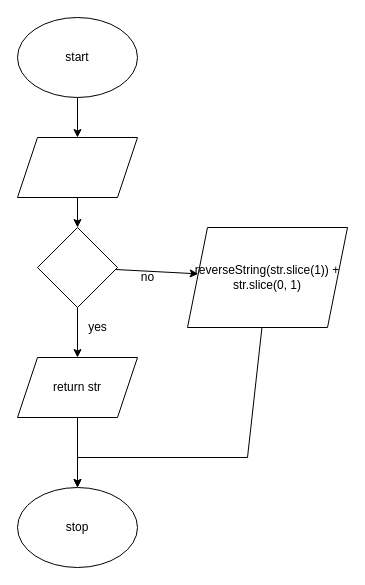
This 365x585 diagram has some shape labels left out. Here are the shapes that lost their labels. From the top down, the centre of each, then its label:
At pixel 77 167: "get str".
At pixel 77 267: "if (str === '')".
